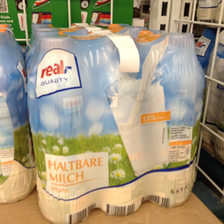milk: (26, 36, 97, 224), (97, 37, 150, 212), (151, 32, 202, 207)
